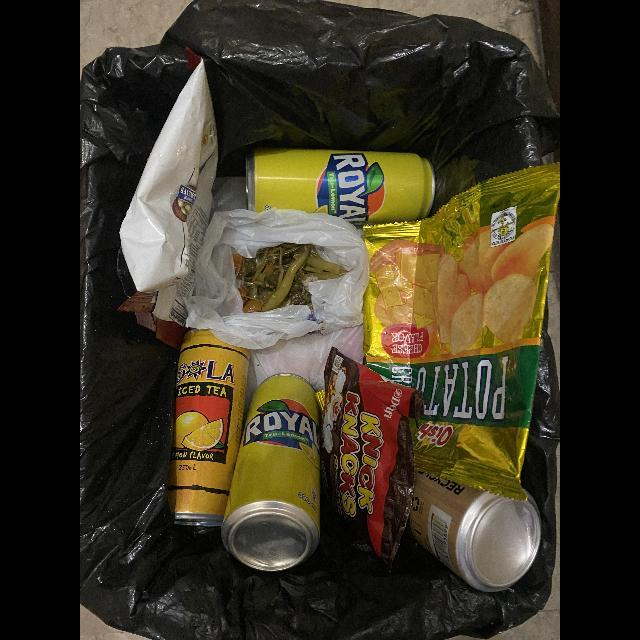biowaste: (233, 243, 349, 313)
metal: (221, 374, 322, 577), (165, 330, 250, 528), (409, 471, 542, 593), (247, 148, 437, 230)
plastic: (185, 208, 369, 350)
wrapper: (362, 162, 560, 502), (119, 46, 218, 352), (320, 349, 424, 574)
